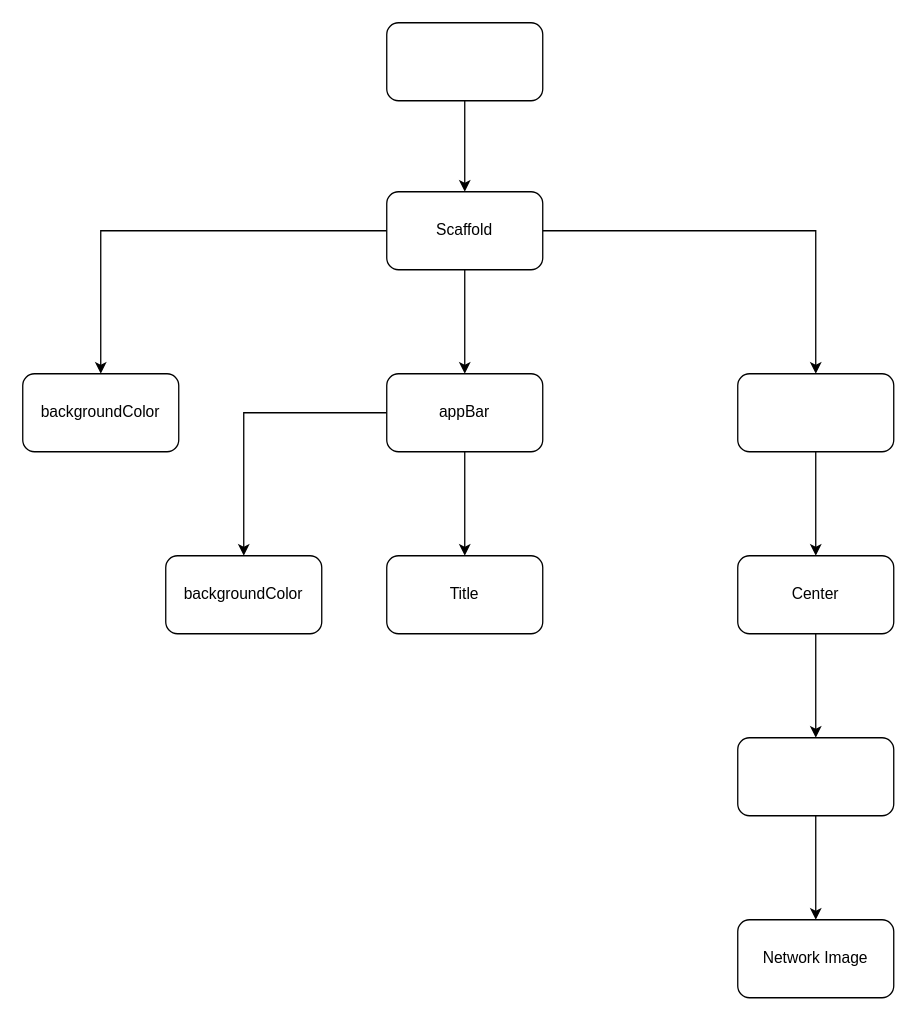
Some shapes in this 916 by 1020 pixel diagram are drawn without their labels. Each missing label, with the centre of its shape:
"Body" goes at pixel 815 412.
"Child" goes at pixel 815 776.
"MaterialApp" goes at pixel 464 61.
